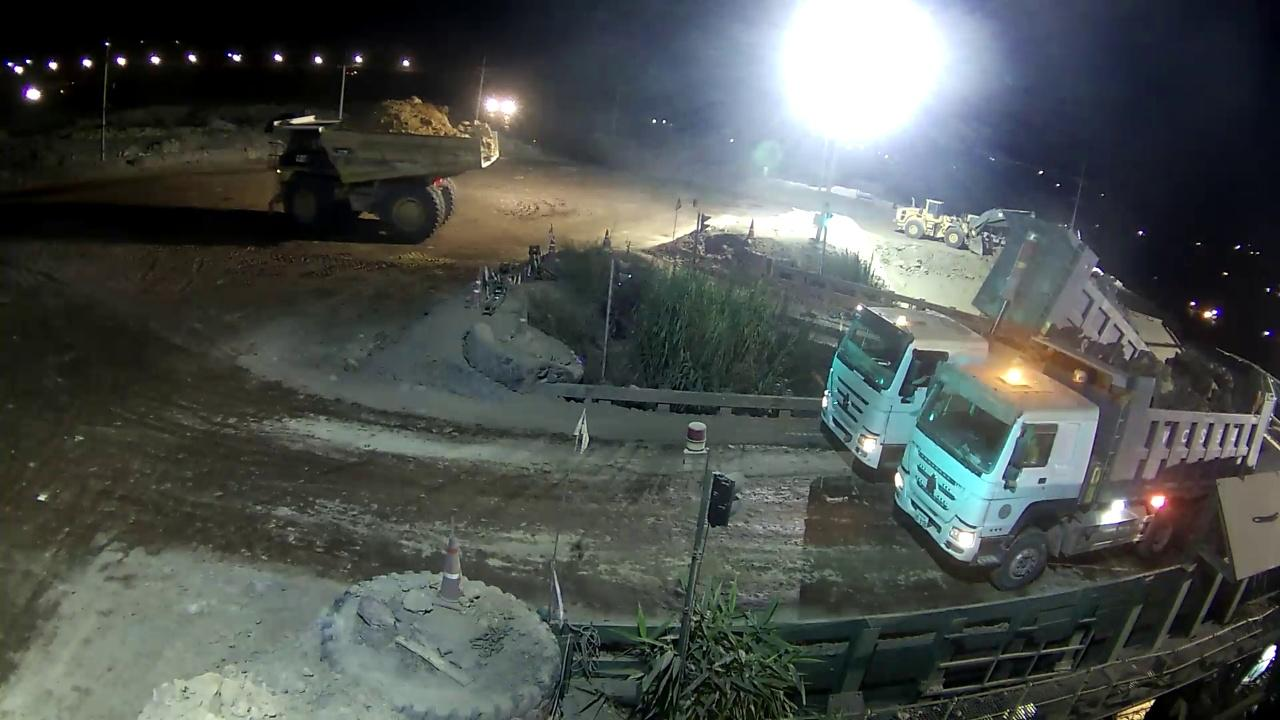full_load: (343, 96, 491, 133)
mining_truck: (251, 83, 504, 257)
